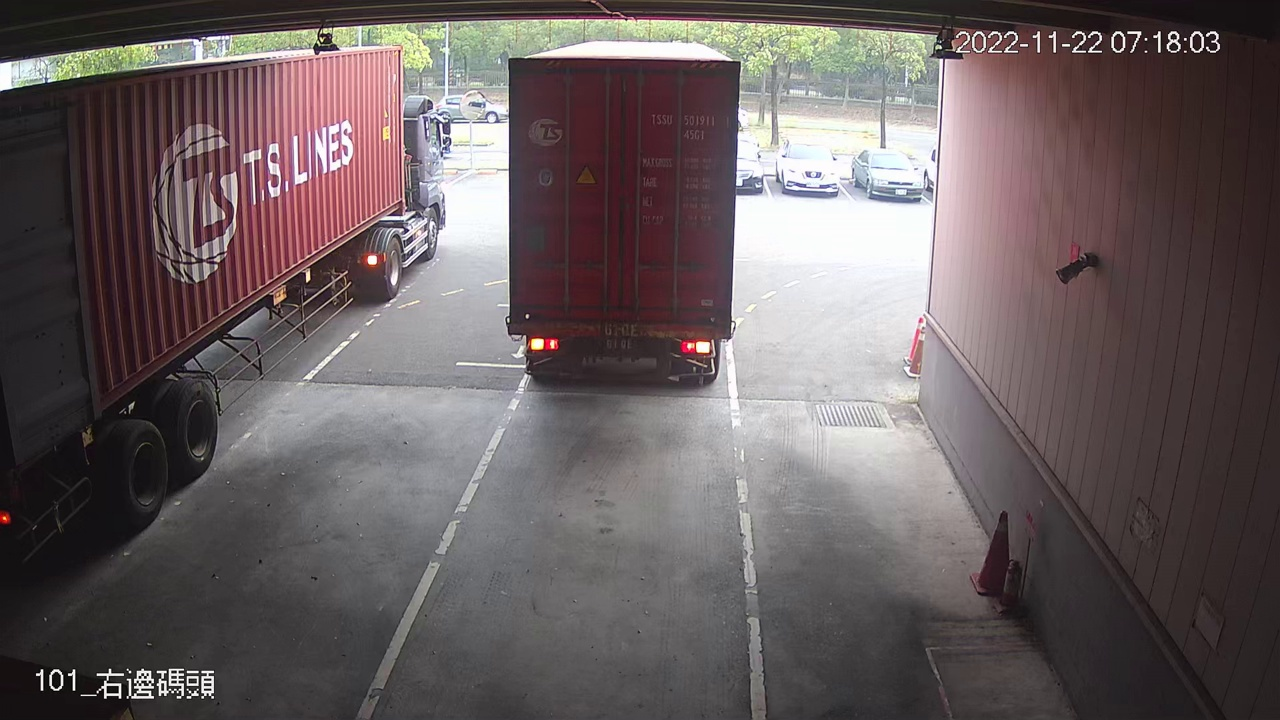container: (648, 108, 733, 147)
